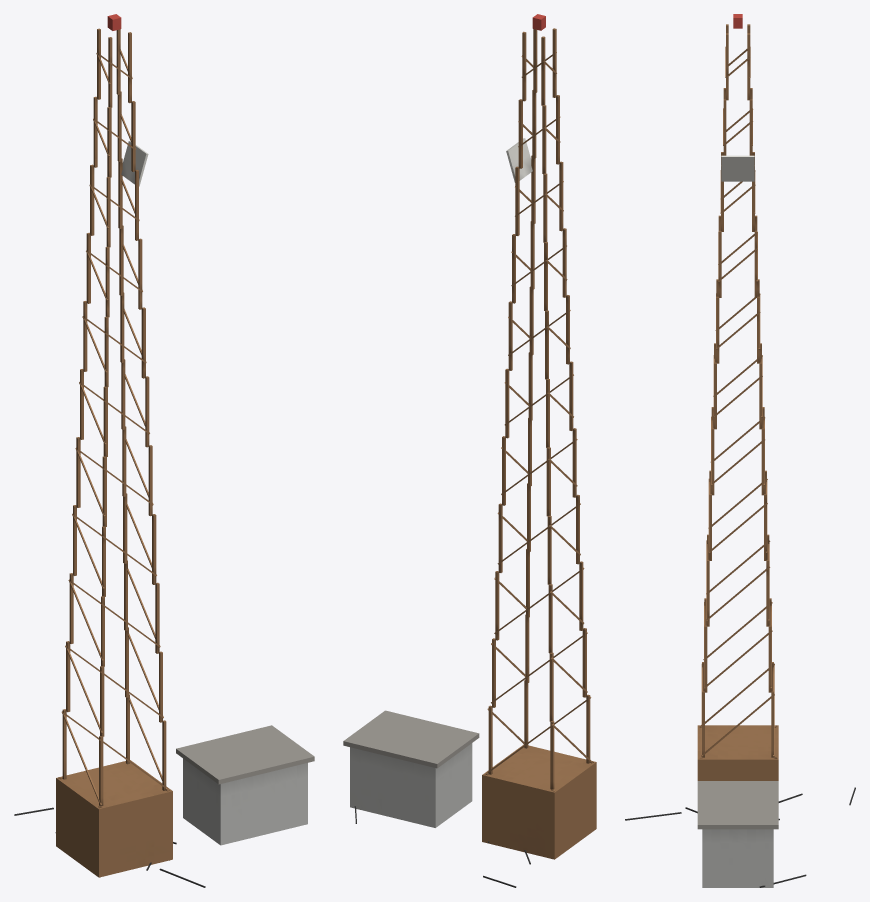
Rendered from antena.glb.
3 renders of one model, left to right at view 1: azimuth 30°, elevation 25°; view 2: azimuth 150°, elevation 25°; view 3: azimuth 270°, elevation 25°, orthographic. The views are drawn at different scales.
Parts seen in each view (by area): view 1: antena_torre, antena_casinha, antena_pe, antena_prato; view 2: antena_torre, antena_casinha, antena_pe, antena_prato; view 3: antena_torre, antena_casinha, antena_pe, antena_prato.
Boxes of the visible parts, bbox=[...] form: antena_torre: bbox=[58, 28, 169, 860]; antena_casinha: bbox=[176, 725, 314, 845]; antena_pe: bbox=[56, 760, 172, 877]; antena_prato: bbox=[121, 141, 148, 186]; antena_torre: bbox=[484, 28, 594, 791]; antena_casinha: bbox=[343, 710, 479, 827]; antena_pe: bbox=[482, 744, 596, 859]; antena_prato: bbox=[506, 138, 532, 182]; antena_torre: bbox=[699, 24, 777, 758]; antena_casinha: bbox=[697, 781, 778, 887]; antena_pe: bbox=[697, 725, 778, 780]; antena_prato: bbox=[721, 155, 754, 181].
Size of what is drawn, in the model's own units: 9.95 by 36.7 by 9.69.
